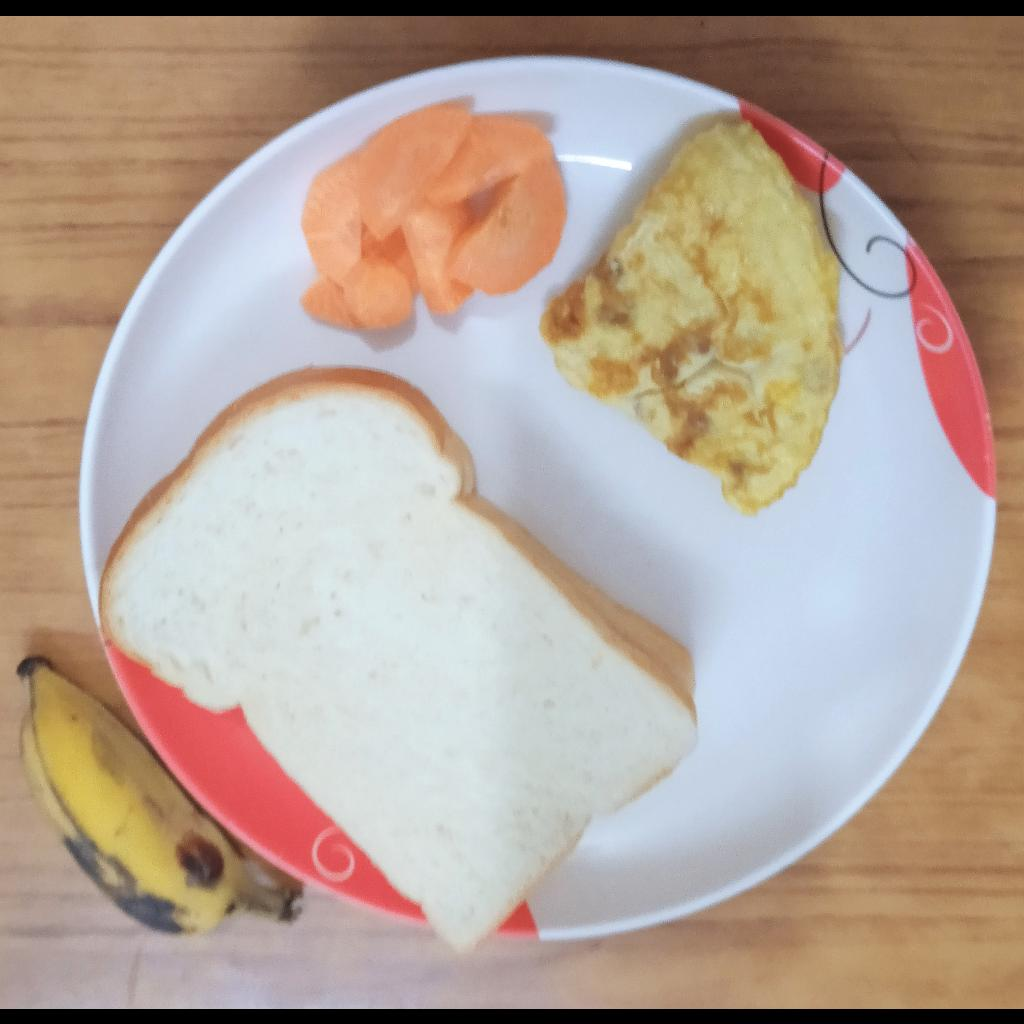banana: (16, 657, 305, 936)
bread: (97, 363, 697, 955)
carrot: (301, 99, 569, 329)
egg-poached: (541, 119, 845, 516)
